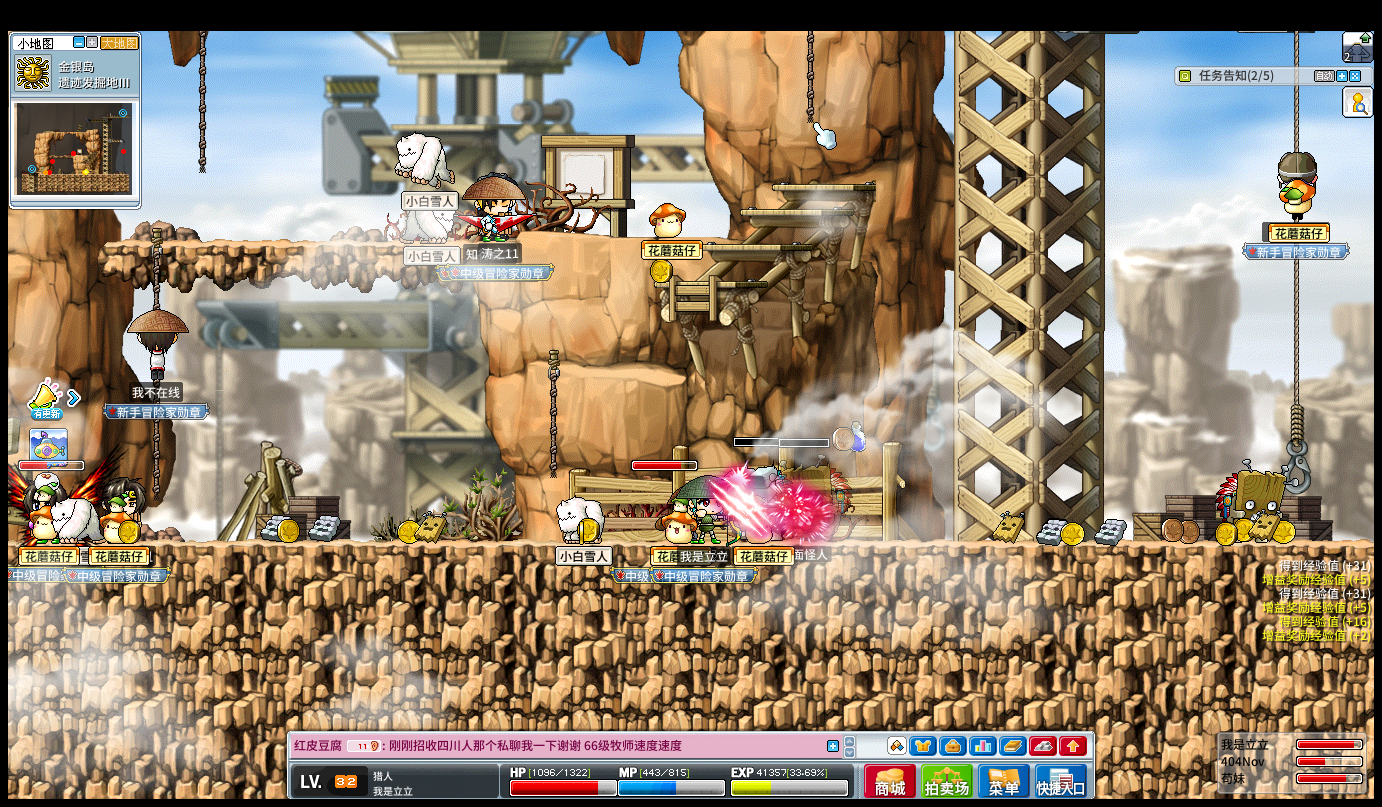floor: (103, 239, 480, 249), (579, 364, 688, 385), (601, 232, 736, 240), (649, 279, 765, 287), (737, 209, 852, 216), (700, 243, 811, 250), (771, 184, 874, 191)
monster: (1215, 461, 1295, 544), (790, 469, 851, 538)
rope: (546, 350, 561, 483), (1291, 257, 1302, 406), (198, 30, 207, 173), (150, 227, 161, 308), (1292, 29, 1299, 148), (805, 29, 813, 123), (1288, 399, 1304, 442), (152, 419, 160, 500)
